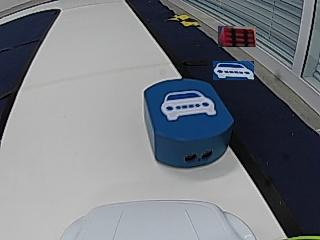safety: (160, 90, 217, 119)
